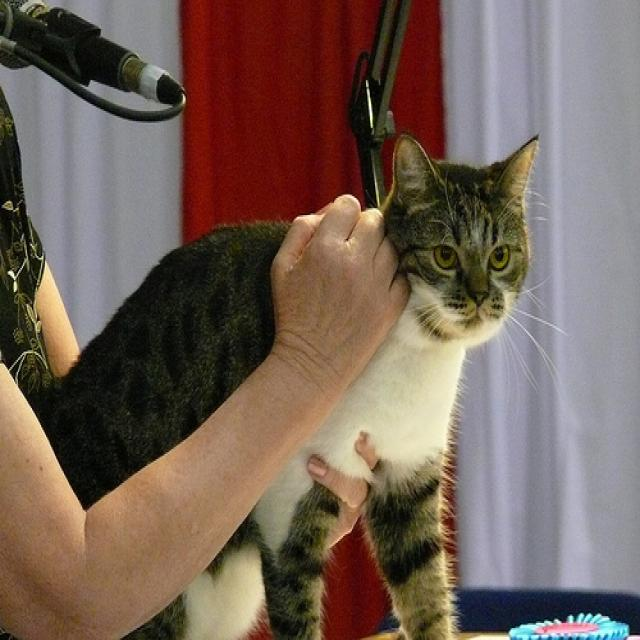left eye: (488, 241, 510, 271)
